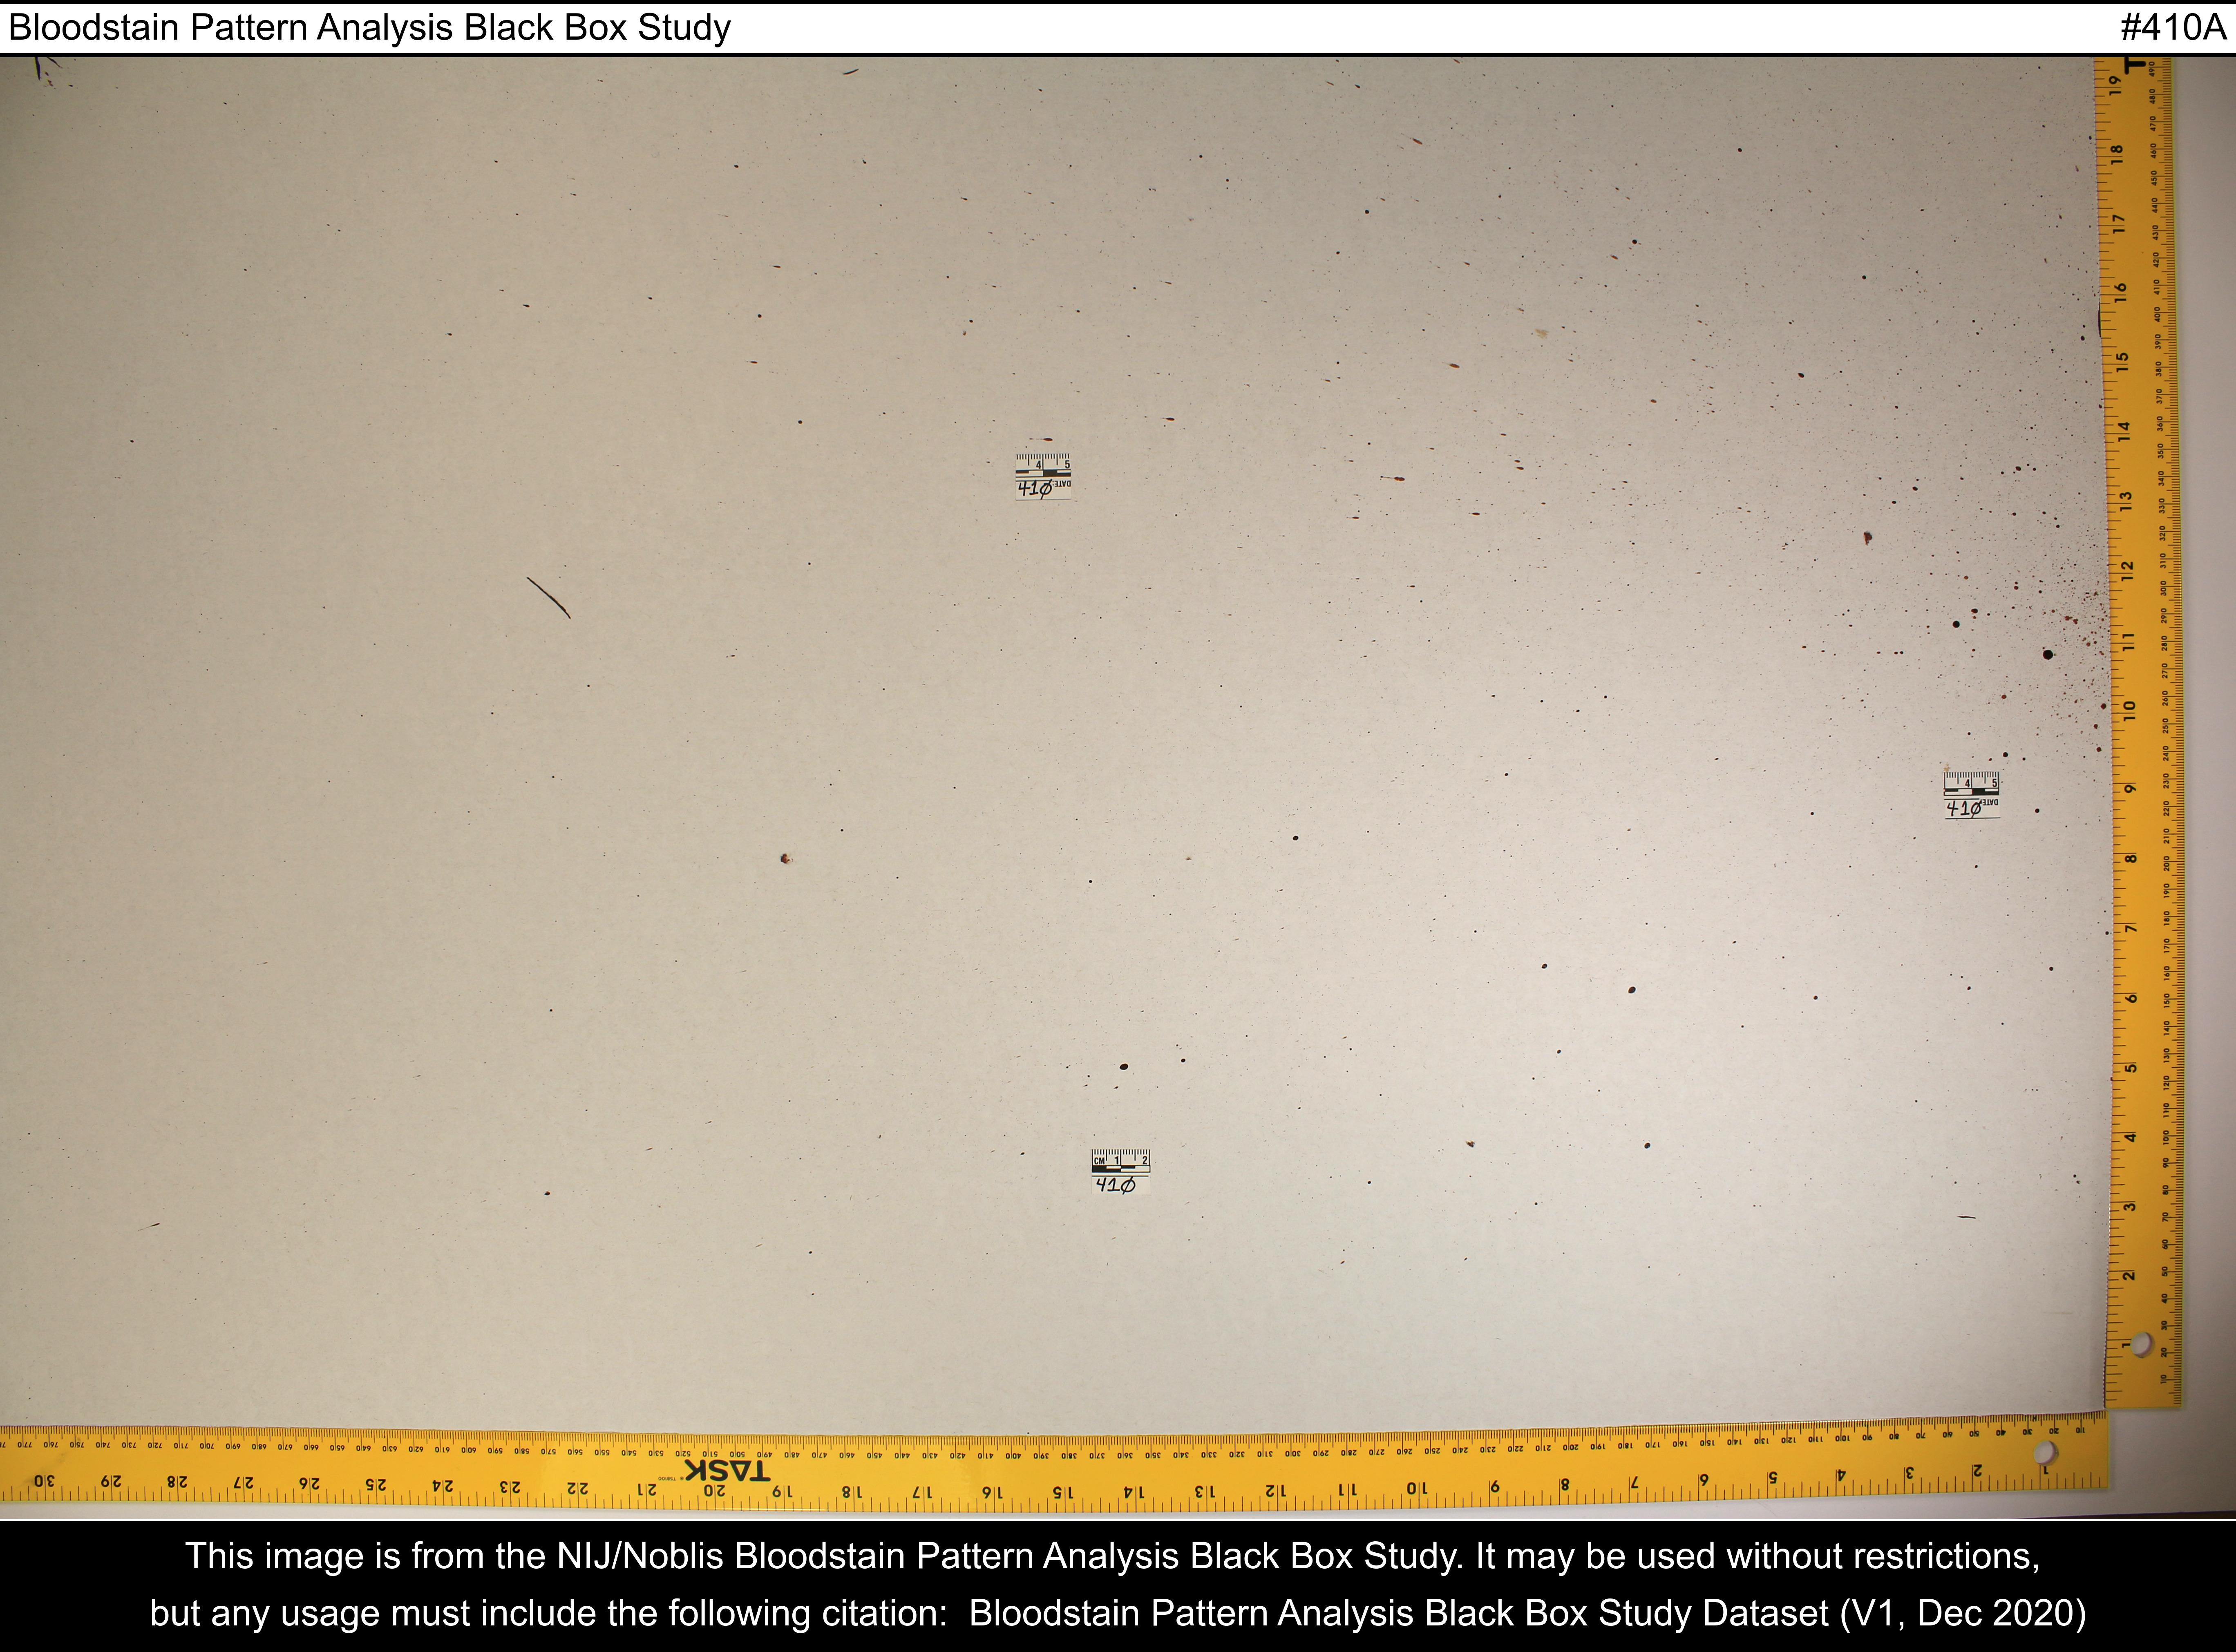Impact: (1342, 226, 2094, 725)
